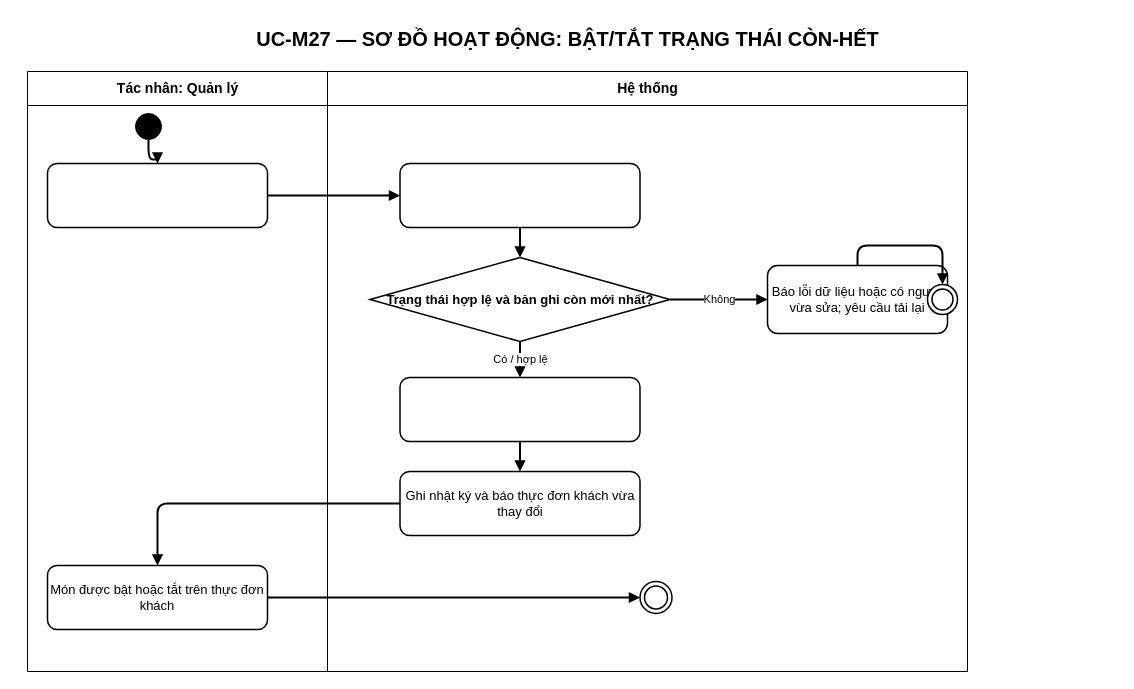
Some shapes in this 1134 by 689 pixel diagram are drawn without their labels. The shapes that lost their labels are listed below. From the top down, each one's centre as x and y in pixels, then its label:
point 157,195: Chọn món và trạng thái còn hoặc hết
point 519,195: Kiểm tra quyền và bản ghi món đang sửa
point 519,409: Cập nhật tình trạng còn bán của món
